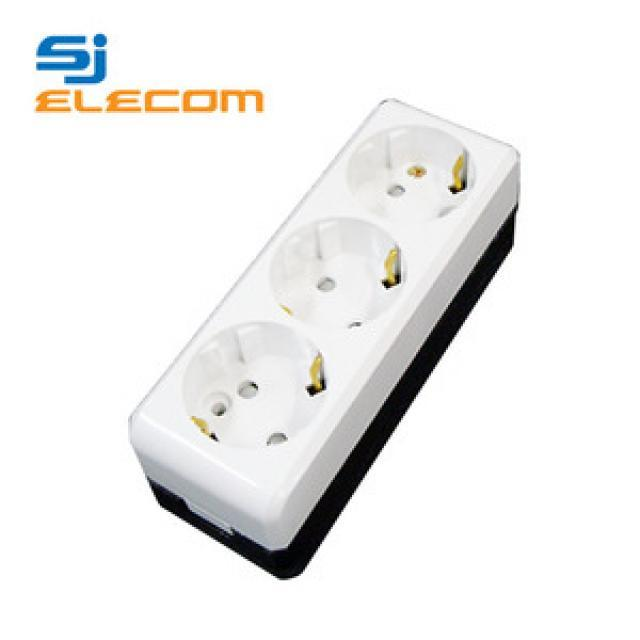typeb: (105, 86, 568, 590)
